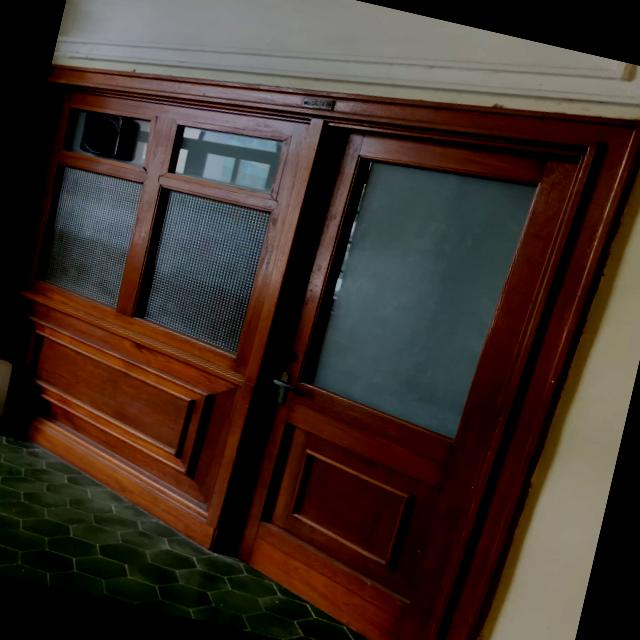room230: (299, 92, 337, 116)
